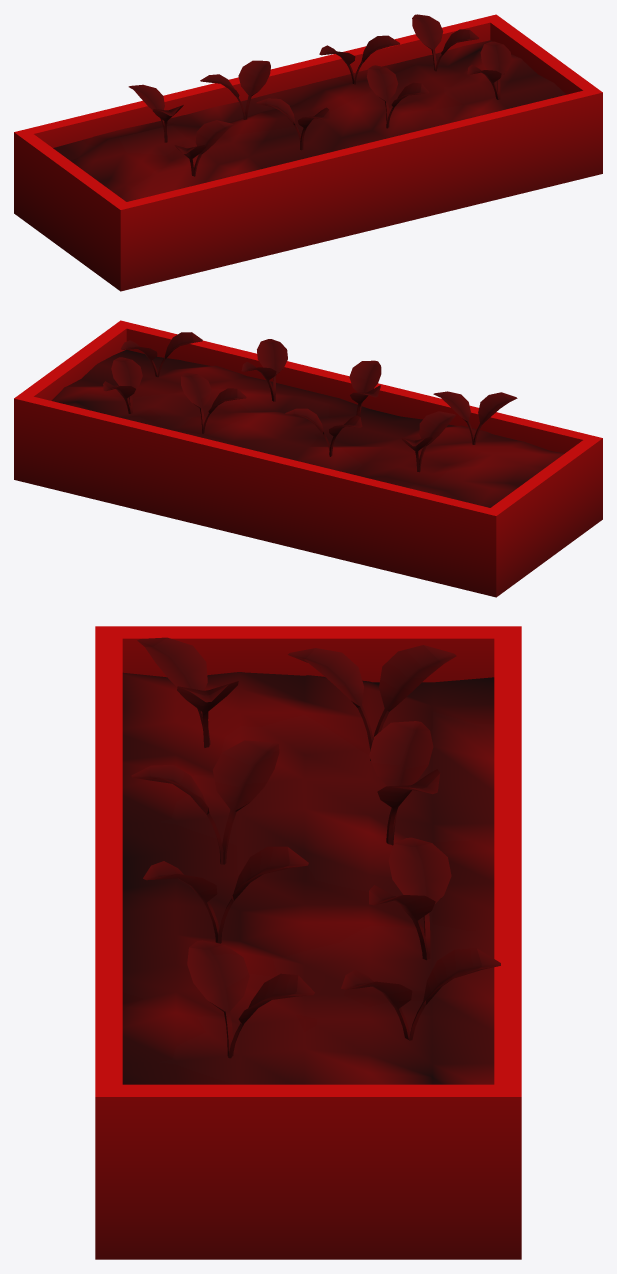
Rendered from ConcreteGardenBed004.glb.
The picture shows the model from 3 angles, top to bottom: view 1: azimuth 30°, elevation 25°; view 2: azimuth 150°, elevation 25°; view 3: azimuth 270°, elevation 25°; orthographic projection. The views are drawn at different scales.
Visible parts, largest first — view 1: ConcreteGardenBed004; view 2: ConcreteGardenBed004; view 3: ConcreteGardenBed004.
Boxes of the visible parts, x1,y1,x2,y2 form: ConcreteGardenBed004: (14,14,602,291); ConcreteGardenBed004: (14,320,602,597); ConcreteGardenBed004: (95,626,521,1259).
Size of the model in its own units: 10.23 by 2.42 by 3.92.
